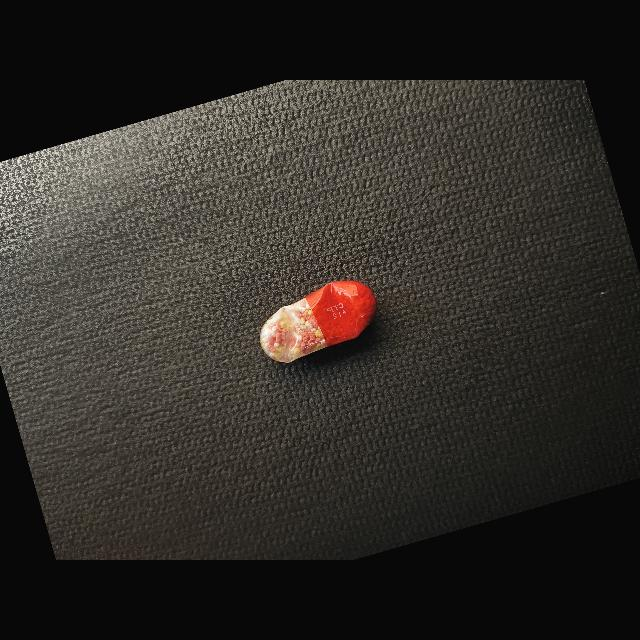Defective Capsule: (260, 280, 376, 363)
